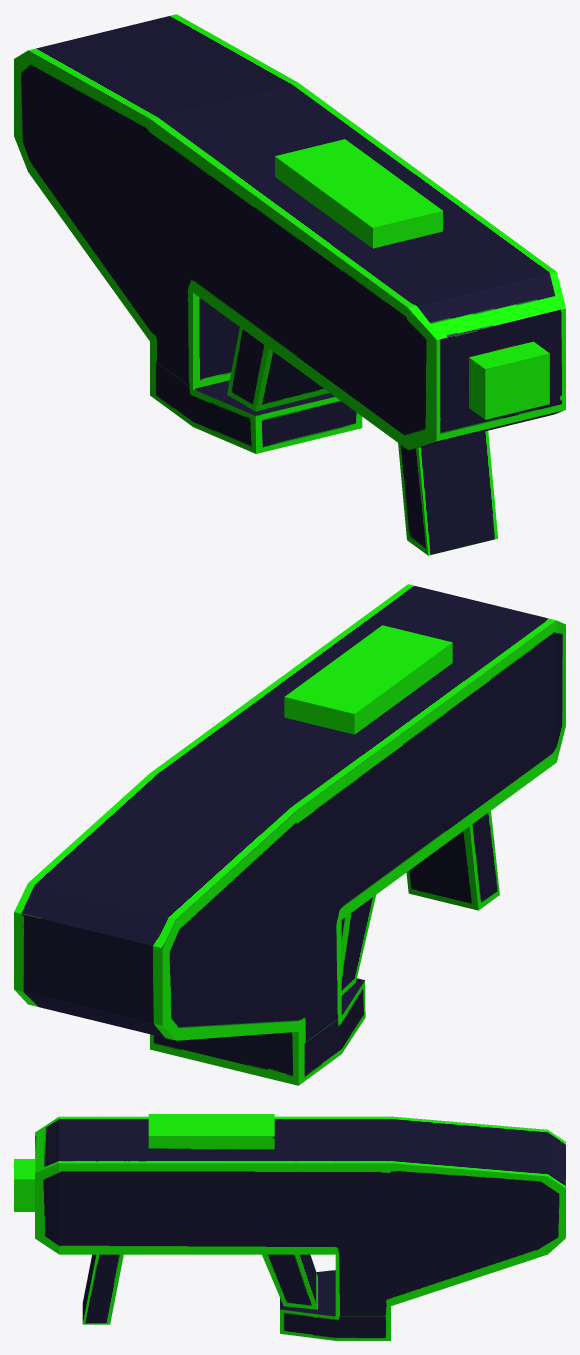
Rendered from smg_v3.fbx.
3 views of the same model, one above another, from view 1: azimuth 30°, elevation 25°; view 2: azimuth 150°, elevation 25°; view 3: azimuth 270°, elevation 25° (orthographic). The views are drawn at different scales.
Visible parts, largest first — view 1: Cube; view 2: Cube; view 3: Cube.
Boxes of the visible parts, box(x1,y1,x2,y2) form: Cube: box(14, 14, 565, 555); Cube: box(14, 584, 565, 1085); Cube: box(14, 1114, 565, 1340).
Size of the model in its own units: 20 by 38.2 by 100.
